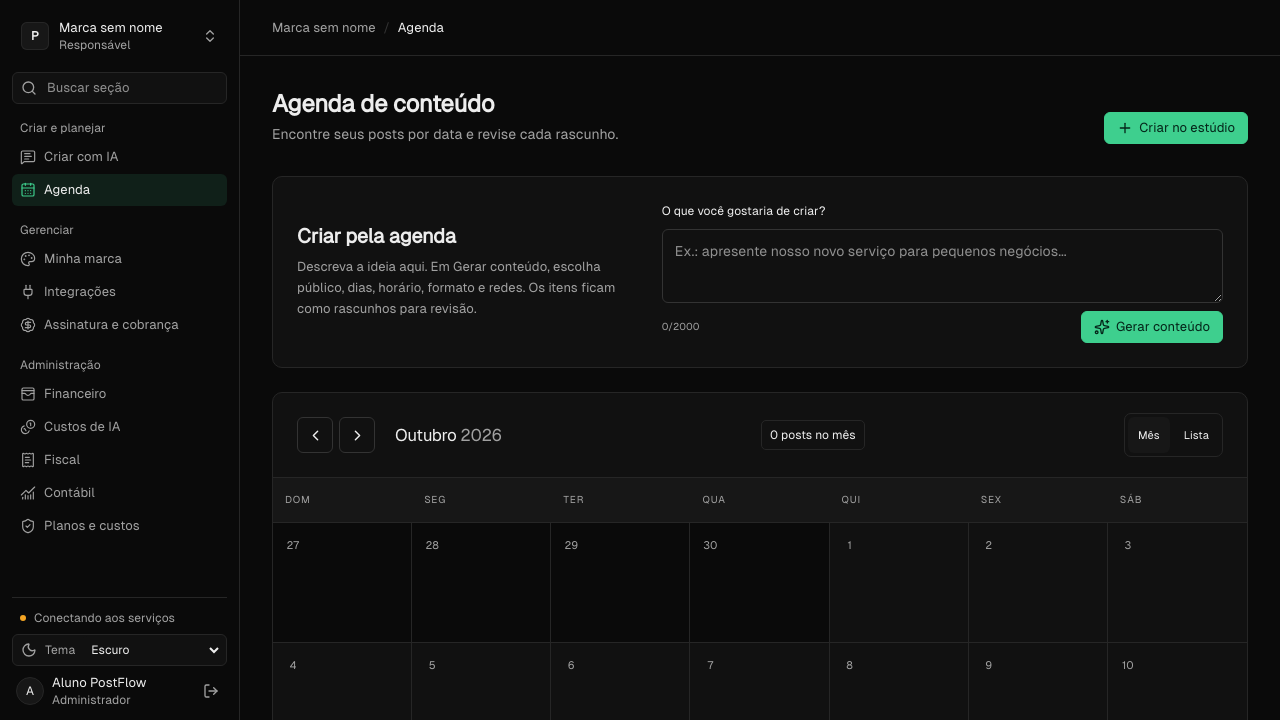
Test: CalendarPage › permite alternar para lista e mantém o rascunho editável por teclado
Click the button "Lista" at (1196,435), box left=1174, top=417, right=1219, bottom=453
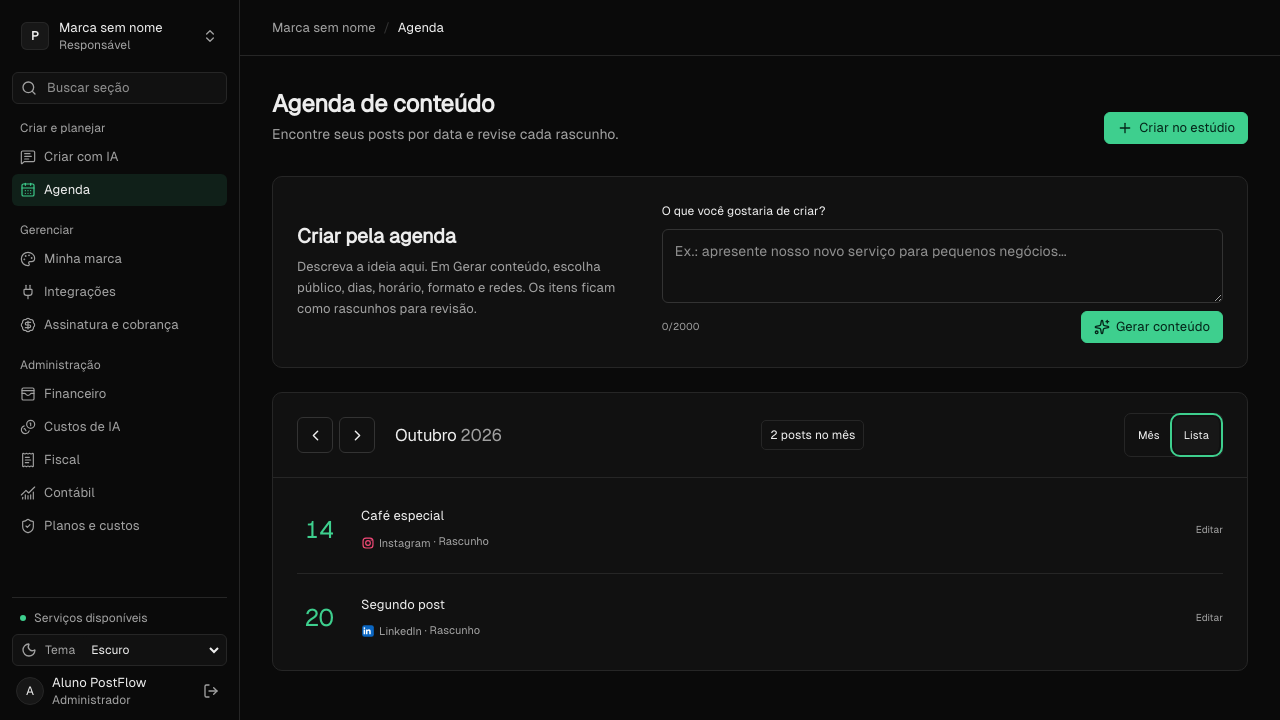
Click the button "14 Café especial Instagram · Rascunho Editar" at (403,516), box left=297, top=486, right=1223, bottom=574
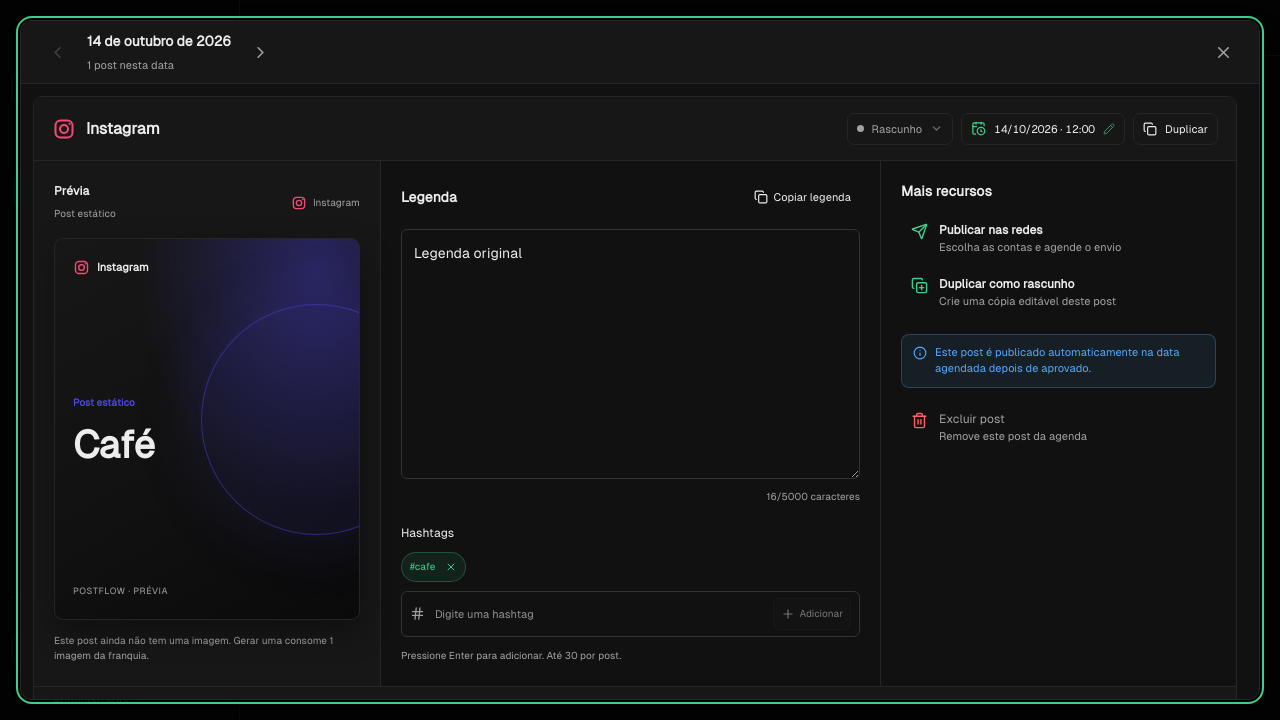
Press Escape
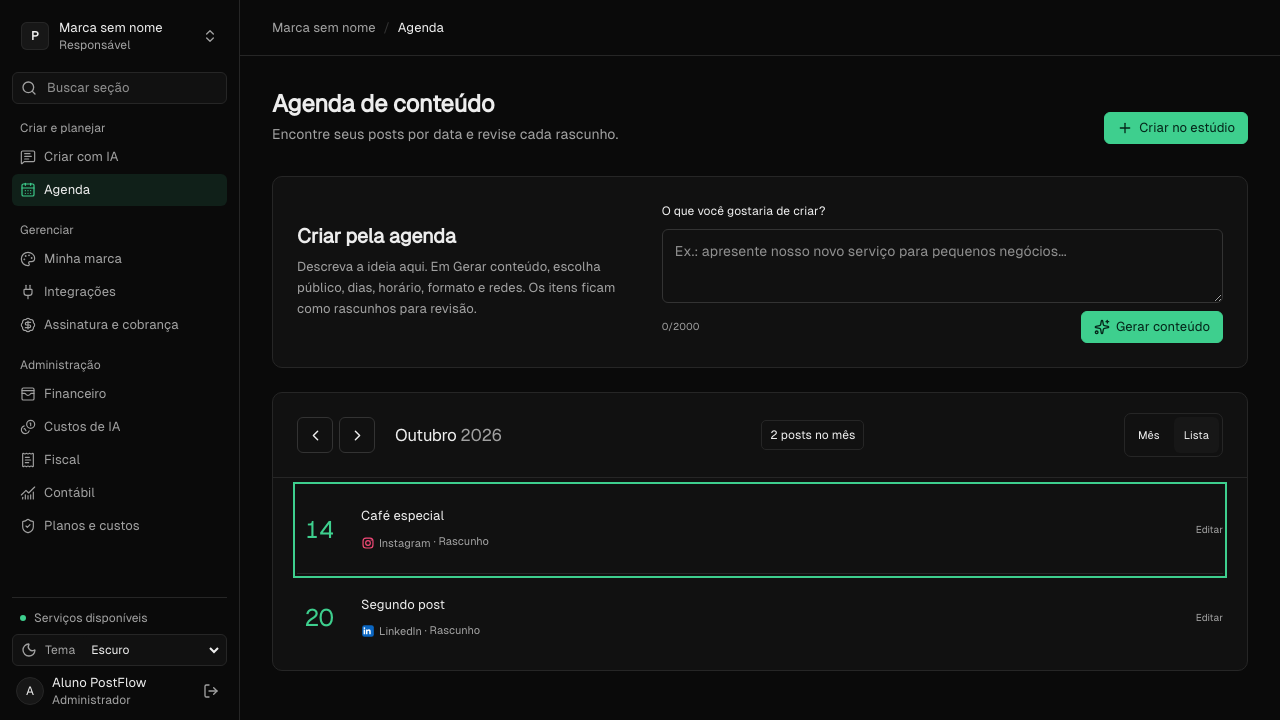
Now the dialog is gone
